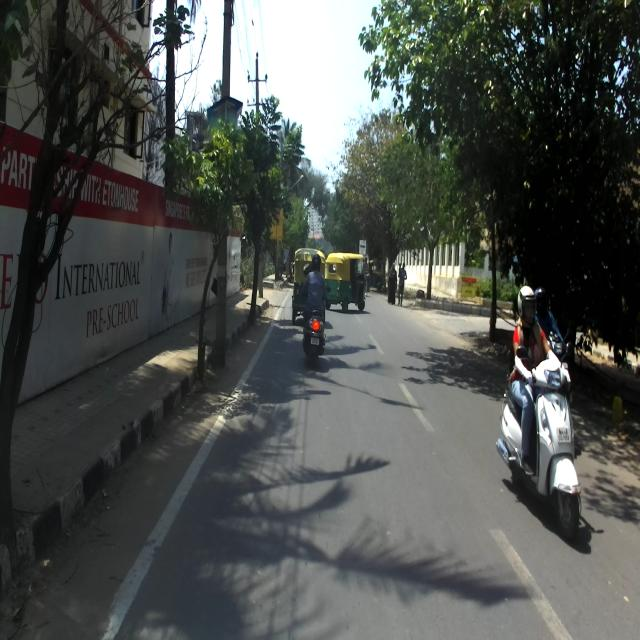electric pole ahead at: (207, 0, 240, 378)
motorcycle ahead at: (501, 354, 592, 542), (330, 250, 368, 316), (299, 308, 329, 364)
